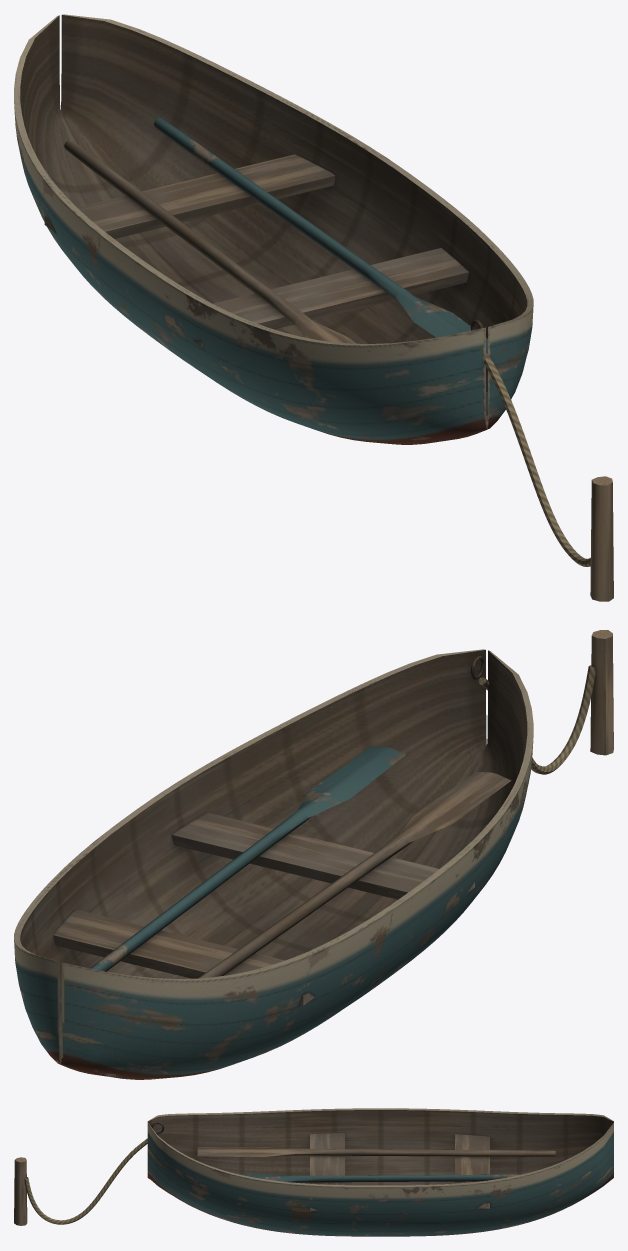
File: fm_rowing_boat.glb
3 renders of one model, top to bottom at view 1: azimuth 30°, elevation 25°; view 2: azimuth 150°, elevation 25°; view 3: azimuth 270°, elevation 25°, orthographic. The views are drawn at different scales.
Visible parts, largest first — view 1: fm_rowing_boat; view 2: fm_rowing_boat; view 3: fm_rowing_boat.
Boxes of the visible parts, x1,y1,x2,y2 form: fm_rowing_boat: (14,14,613,601); fm_rowing_boat: (14,630,613,1079); fm_rowing_boat: (14,1108,613,1236).
Size of the model in its own units: 1.12 by 0.671 by 3.6.
Materials: 1 (1 with a texture image).
